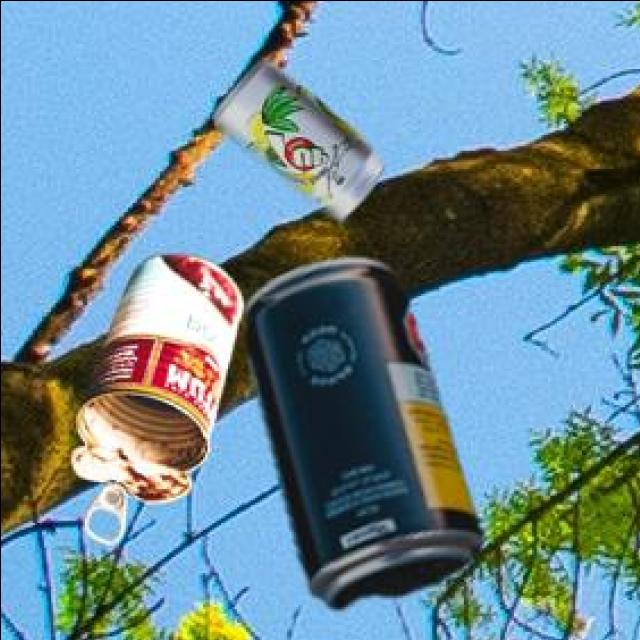logam: (249, 253, 485, 605), (74, 251, 246, 539), (217, 56, 387, 214)
